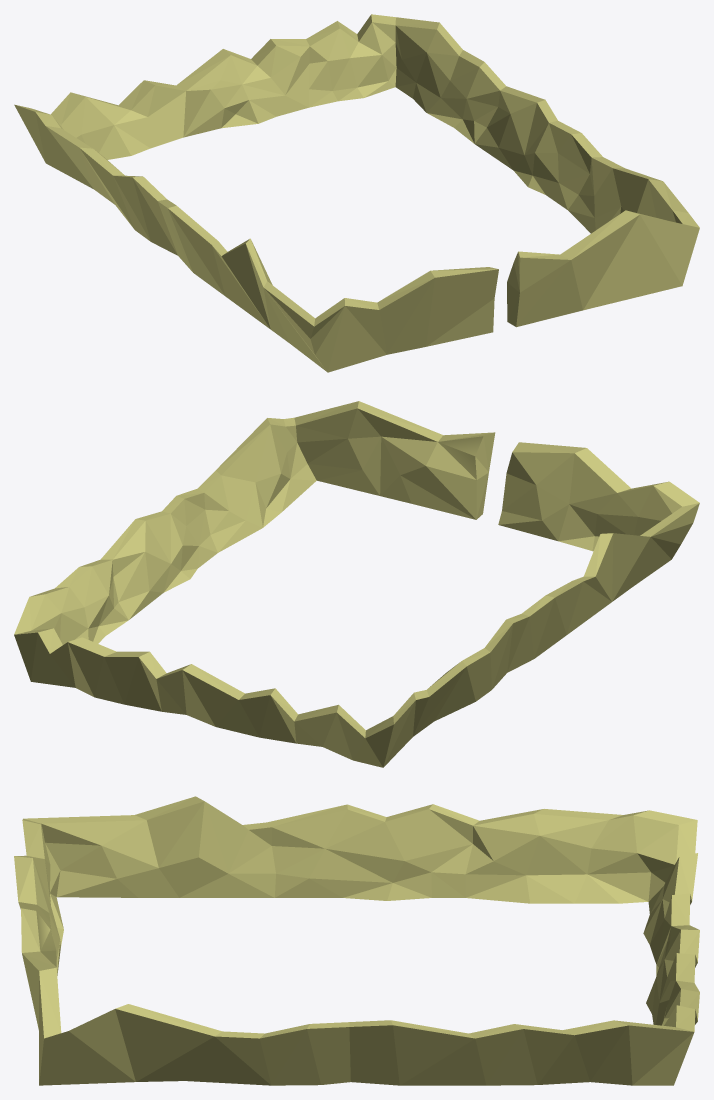
Rendered from Land_Rocks_4_low.fbx.
3 views of the same model, one above another, from view 1: azimuth 30°, elevation 25°; view 2: azimuth 150°, elevation 25°; view 3: azimuth 270°, elevation 25° (orthographic). The views are drawn at different scales.
Visible parts, largest first — view 1: Land_Rock_Low; view 2: Land_Rock_Low; view 3: Land_Rock_Low.
Boxes of the visible parts, x1,y1,x2,y2 form: Land_Rock_Low: (14,14,699,372); Land_Rock_Low: (14,401,699,767); Land_Rock_Low: (14,796,699,1085).
Size of the model in its own units: 94.63 by 18.74 by 127.
